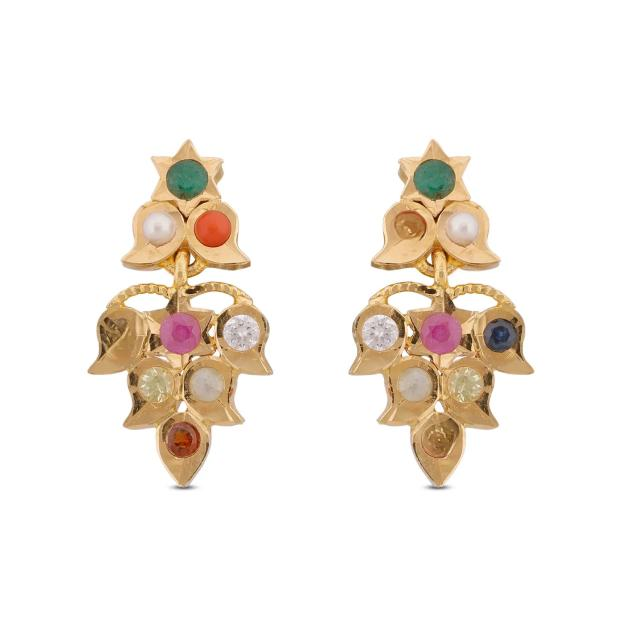missing gem: (394, 210, 426, 241), (107, 318, 136, 349)
